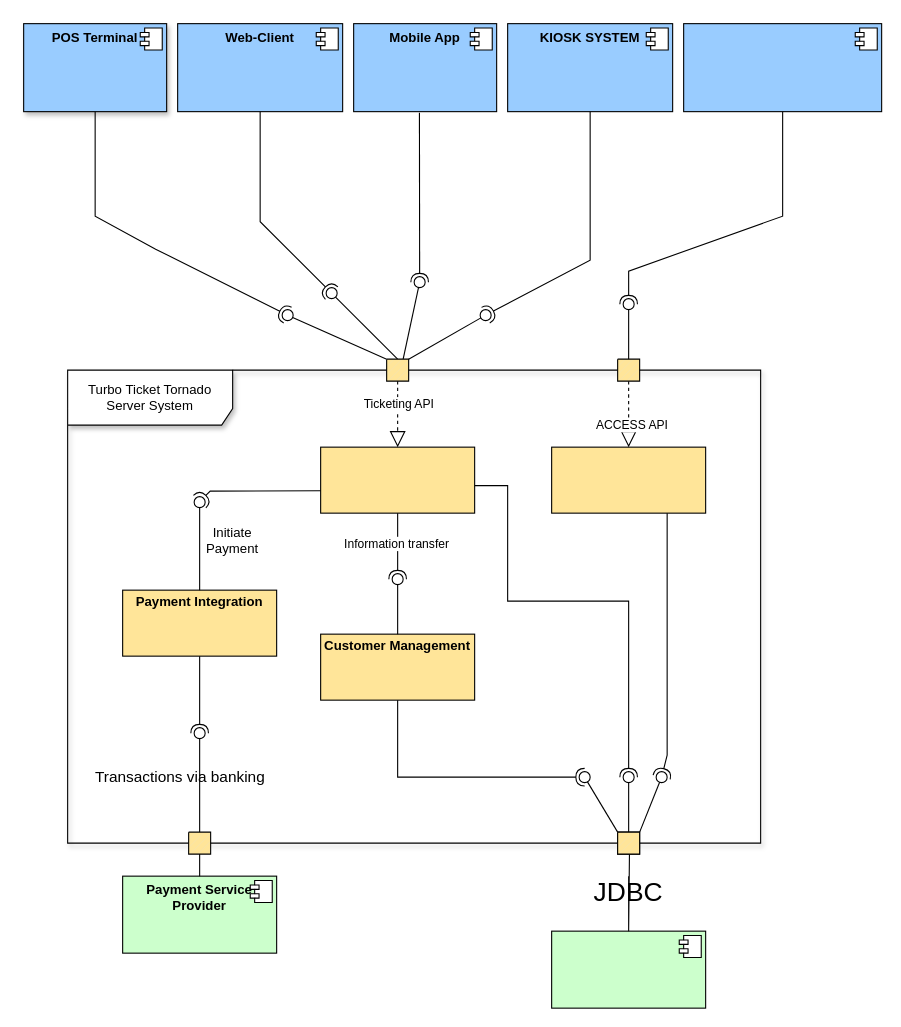
This 901x1027 diagram has some shape labels left out. Here are the shapes that lost their labels. From the top down, the centre of each, then its label:
the point at 782,67: Turnstyle/ACCESS GATE
the point at 397,479: Ticketing & Booking Service
the point at 628,479: Access Control Service
the point at 628,969: Database
